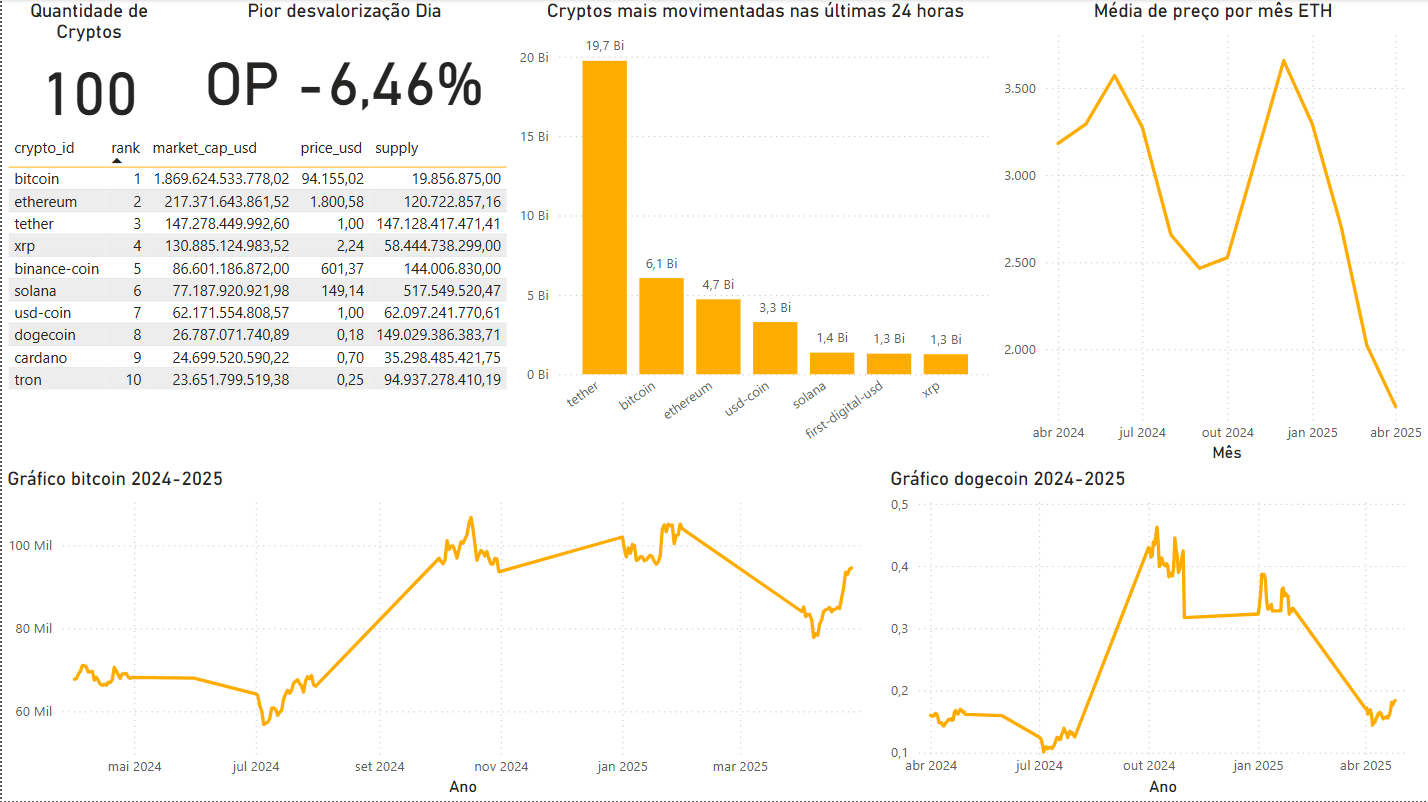

What the dashboard file says about the page in this screenshot:
{"tool":"powerbi","page":{"name":"Página 1","canvas":[1280,720],"ordinal":0},"visuals":[{"type":"card","title":"Quantidade de Cryptos","fields":{"Values":["Count(public fact_assets.crypto_id)"]},"box":[0,0,216.9,118.7],"z":0},{"type":"lineChart","title":"Gráfico dogecoin 2024-2025","fields":{"Y":["Max(public fact_assets_history.price_usd)"],"Category":["public fact_assets_history.date.Variation.Hierarquia de datas.Ano","public fact_assets_history.date.Variation.Hierarquia de datas.Trimestre","public fact_assets_history.date.Variation.Hierarquia de datas.Dia"]},"box":[792.7,420.2,487.3,299.6],"z":1000},{"type":"lineChart","title":"Gráfico bitcoin 2024-2025","fields":{"Y":["Max(public fact_assets_history.price_usd)"],"Category":["public fact_assets_history.date.Variation.Hierarquia de datas.Ano","public fact_assets_history.date.Variation.Hierarquia de datas.Trimestre","public fact_assets_history.date.Variation.Hierarquia de datas.Dia"]},"box":[0,420.2,792.7,299.6],"z":2000},{"type":"tableEx","fields":{"Values":["public fact_assets.crypto_id","Sum(public fact_assets.rank)","Sum(public fact_assets.market_cap_usd)","Sum(public fact_assets.price_usd)","Sum(public fact_assets.supply)"]},"box":[0,118.7,459.1,241.2],"z":3000},{"type":"columnChart","title":"Cryptos mais movimentadas nas últimas 24 horas","fields":{"Category":["public fact_assets.crypto_id"],"Y":["Max(public fact_assets.volume_usd_24h)"]},"box":[458.8,0,435.4,360],"z":4000},{"type":"card","title":"Pior desvalorização Dia","fields":{"Values":["Min(public fact_assets.change_percent_24h)"]},"box":[229.5,0,216.9,118.7],"z":5000},{"type":"lineChart","title":"Média de preço por mês ETH","fields":{"Y":["Avg(public fact_assets_history.price_usd)"]},"box":[894.2,0,386,360],"z":5001}]}

Visuals, with their boxes in screenshot pixels (x1, y1, x2, y2), scaled from the page's 1280x720 canvas onto the 1428x802 screenshot:
"Quantidade de Cryptos" card: (0,0,242,132)
"Gráfico dogecoin 2024-2025" lineChart: (884,468,1427,801)
"Gráfico bitcoin 2024-2025" lineChart: (0,468,884,801)
tableEx - public fact_assets.crypto_id x Sum(public fact_assets.rank): (0,132,512,401)
"Cryptos mais movimentadas nas últimas 24 horas" columnChart: (512,0,998,401)
"Pior desvalorização Dia" card: (256,0,498,132)
"Média de preço por mês ETH" lineChart: (998,0,1427,401)
